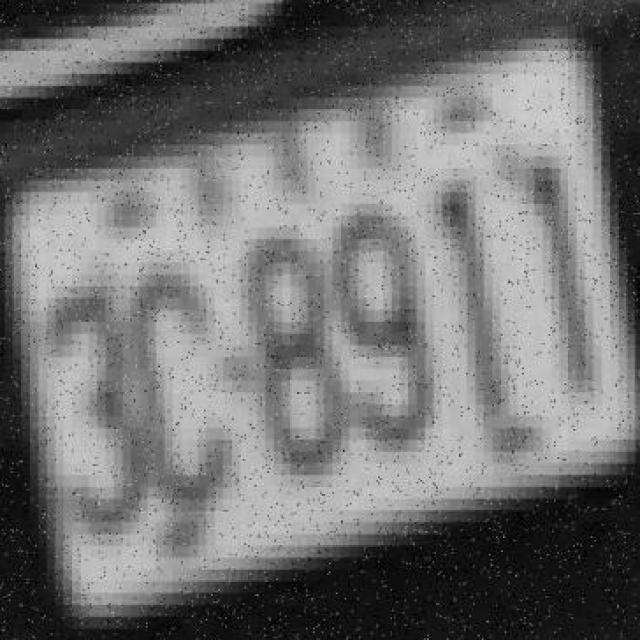licenseplate: (0, 35, 640, 594)
